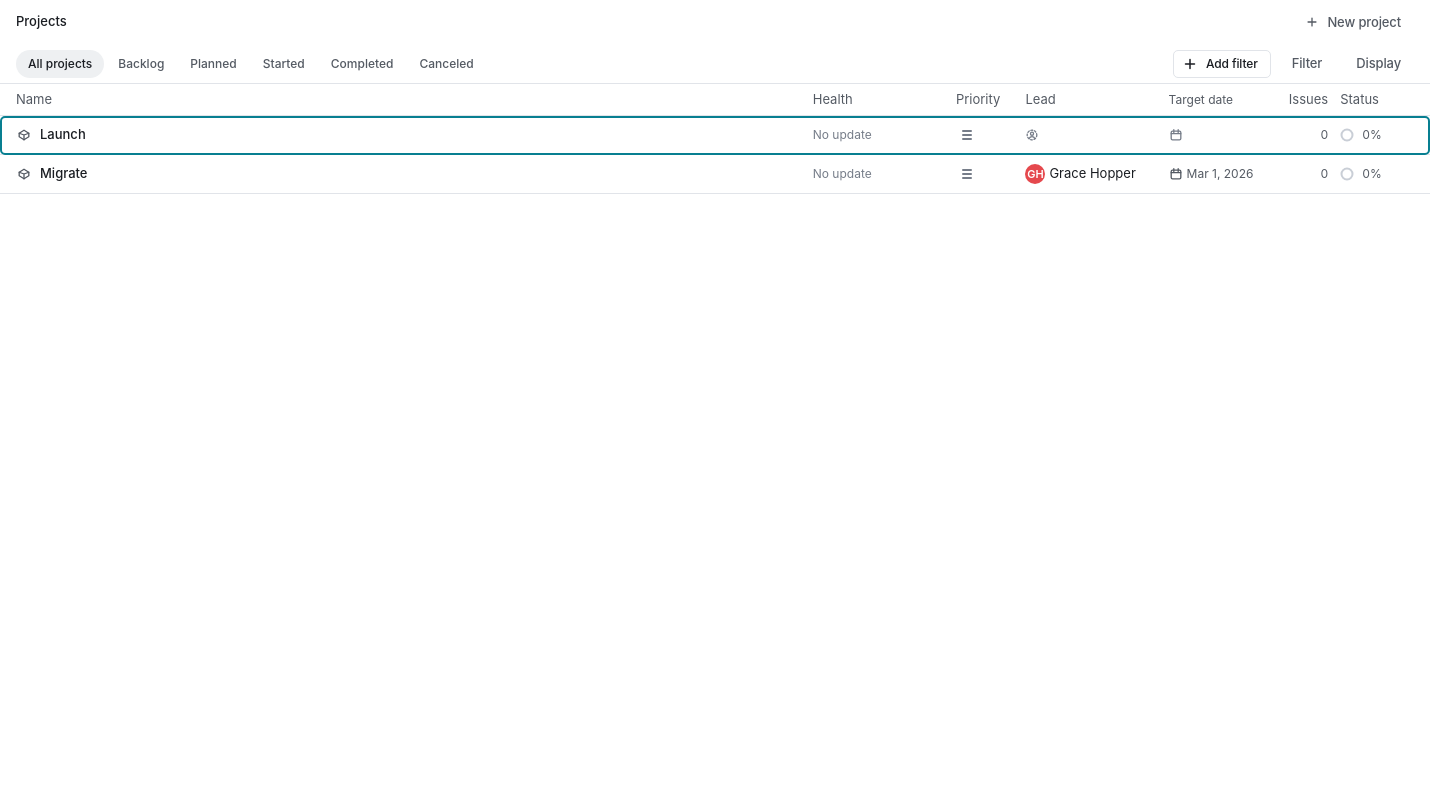
Scenario: Projects row target date › offers a control on a project that has no target date
The width and height of the screenshot is (1440, 810).
Click the button named "No target date" at (1176, 135), box [1165, 124, 1187, 146]
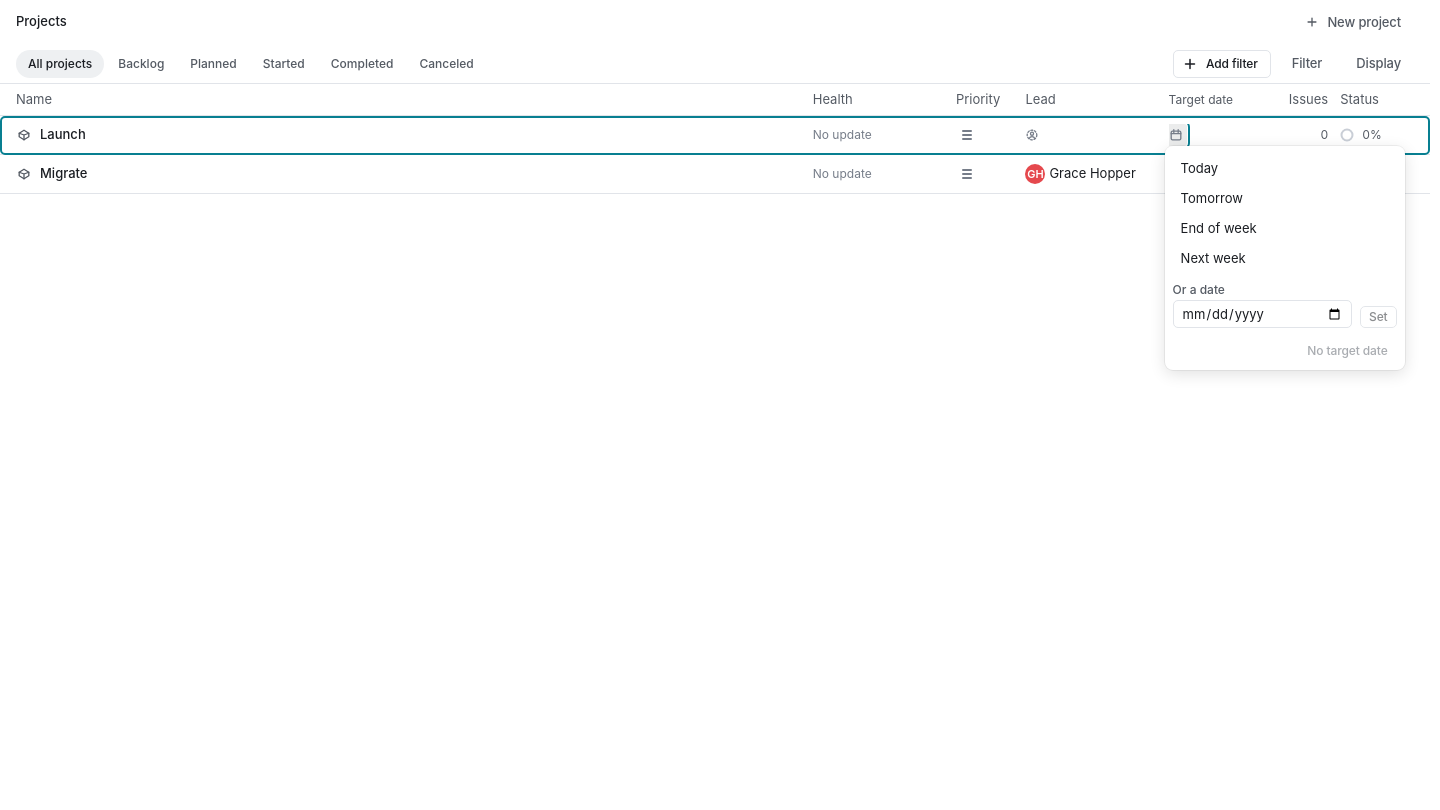
Result: the dialog "target date" is shown at [1165, 146, 1405, 370]
